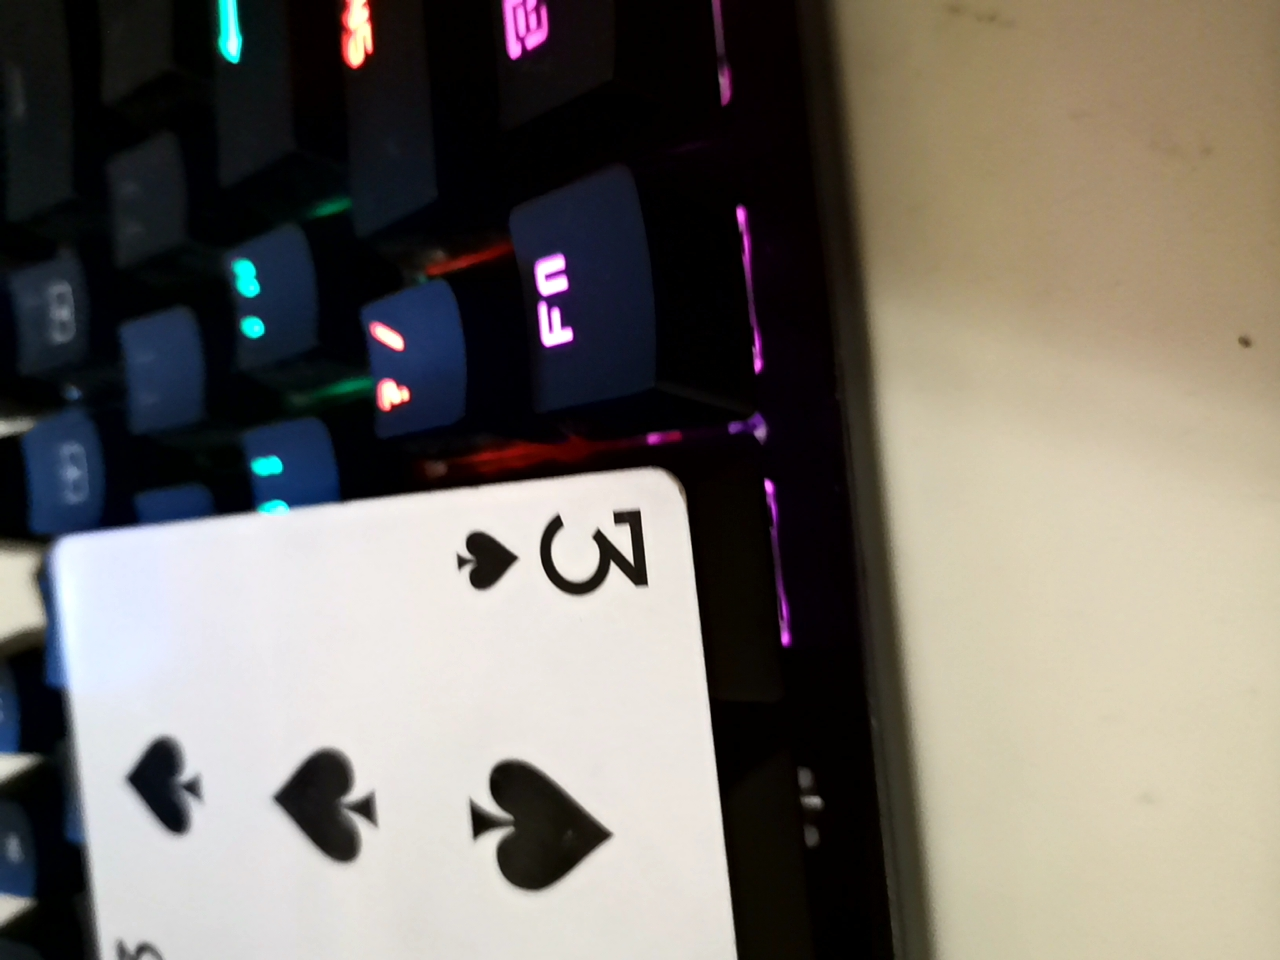ht 3: (34, 487, 728, 959)
